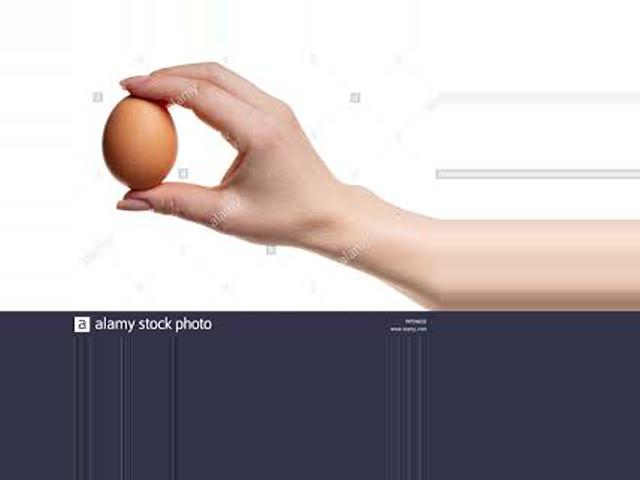egg: (103, 95, 179, 188)
